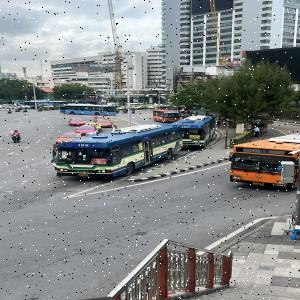BMTA-bus: (52, 124, 184, 178), (229, 135, 300, 190), (173, 116, 217, 150), (59, 103, 118, 116), (35, 100, 69, 106)
Bus Line Number: (76, 143, 91, 147), (257, 150, 271, 154), (181, 126, 190, 128)
Bus Side Number: (273, 183, 286, 188), (194, 141, 202, 143), (96, 168, 106, 169)
Destination Sign: (92, 158, 107, 165), (188, 136, 200, 140), (277, 166, 281, 170)
